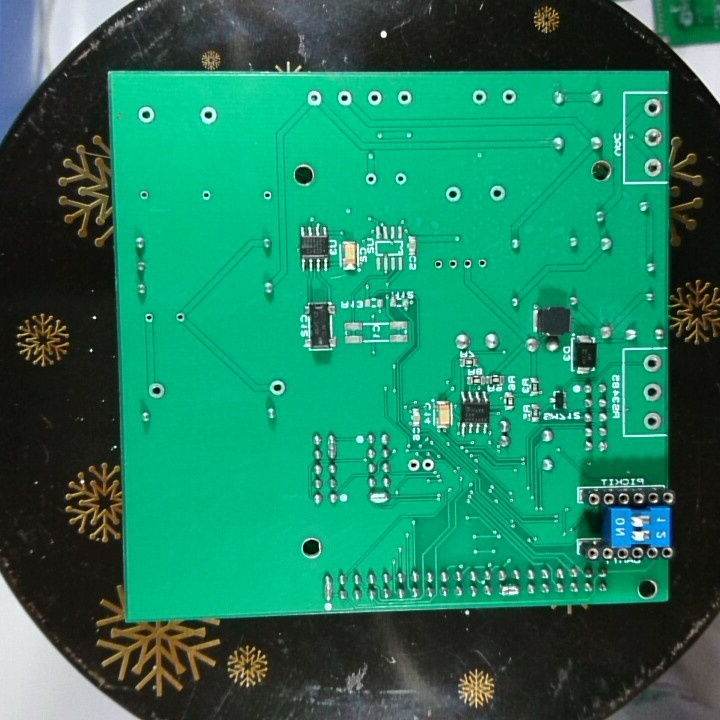F: (641, 352, 665, 377), (145, 378, 169, 402), (197, 103, 220, 128), (641, 155, 664, 179), (642, 126, 665, 149), (135, 103, 158, 126), (266, 376, 288, 399), (642, 96, 663, 119), (642, 381, 663, 403), (642, 411, 664, 432), (499, 86, 520, 108), (303, 88, 325, 109), (487, 183, 508, 204), (441, 186, 465, 204), (394, 88, 415, 108), (365, 88, 385, 109), (334, 88, 354, 109), (470, 87, 489, 107), (362, 170, 380, 189), (420, 456, 437, 474), (474, 253, 490, 272), (459, 255, 475, 273), (136, 186, 152, 204), (392, 169, 408, 187), (173, 309, 189, 326), (405, 457, 422, 473), (445, 255, 459, 274), (198, 187, 214, 203), (431, 256, 445, 273), (142, 310, 157, 325), (260, 187, 274, 203)
P: (325, 432, 340, 461), (366, 490, 392, 506), (321, 572, 335, 601), (497, 583, 522, 598)
